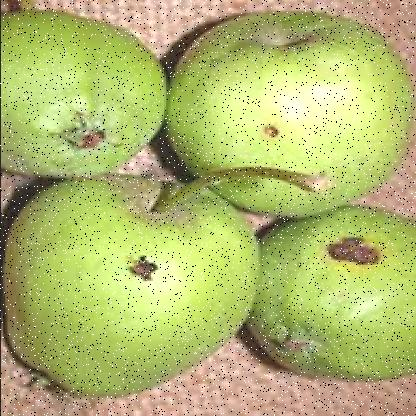apple: (172, 15, 392, 216), (3, 18, 158, 168)
damaged_apple: (18, 177, 266, 395), (260, 206, 416, 372)
